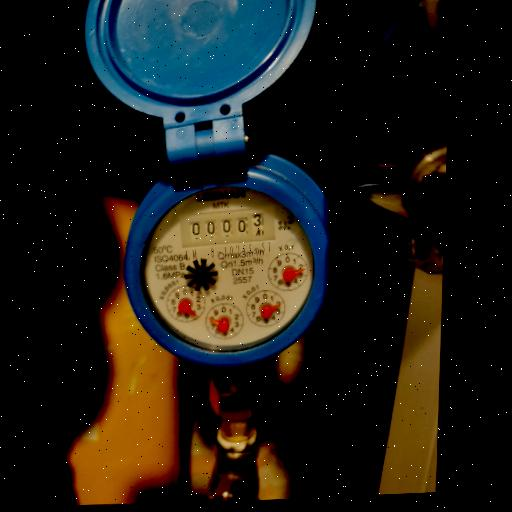0: (221, 217, 233, 238), (190, 221, 202, 241), (205, 220, 217, 240), (236, 217, 248, 237)
3: (251, 212, 265, 237)
border_water_meter_number: (179, 205, 277, 250)
